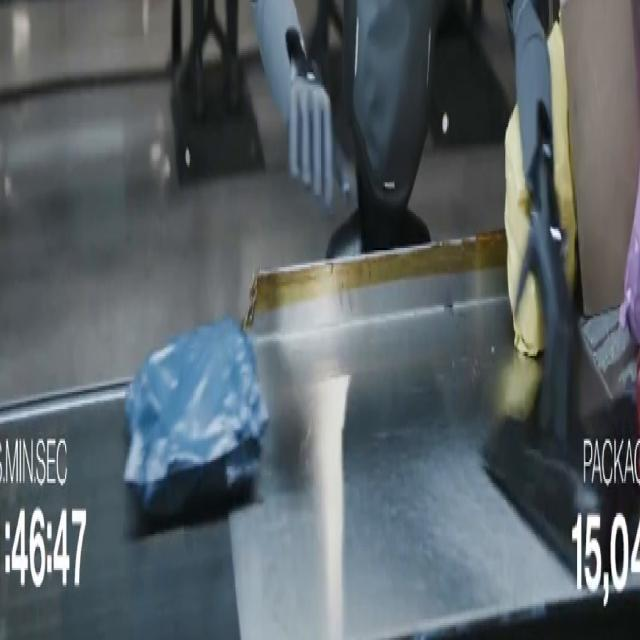package: (124, 318, 267, 519), (562, 0, 639, 315), (505, 106, 544, 356), (620, 189, 639, 345)
